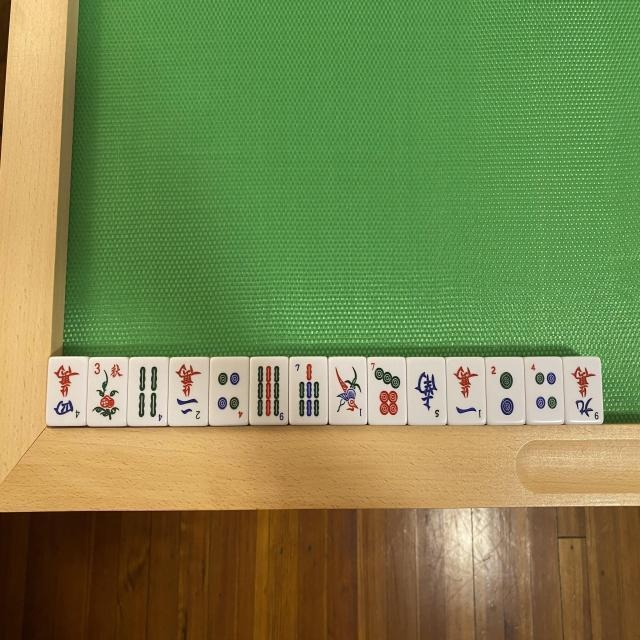bs3: (88, 360, 126, 427)
hws: (408, 358, 443, 424)
sb1: (330, 358, 367, 424)
sb4: (130, 358, 168, 426)
sb7: (291, 358, 328, 424)
sb9: (253, 356, 290, 423)
sc1: (448, 358, 484, 425)
sc2: (172, 360, 211, 427)
sc4: (48, 356, 88, 424)
sc9: (564, 358, 602, 423)
sd2: (488, 359, 524, 424)
sd4: (210, 359, 248, 426), (526, 359, 564, 423)
sd7: (368, 358, 406, 424)
